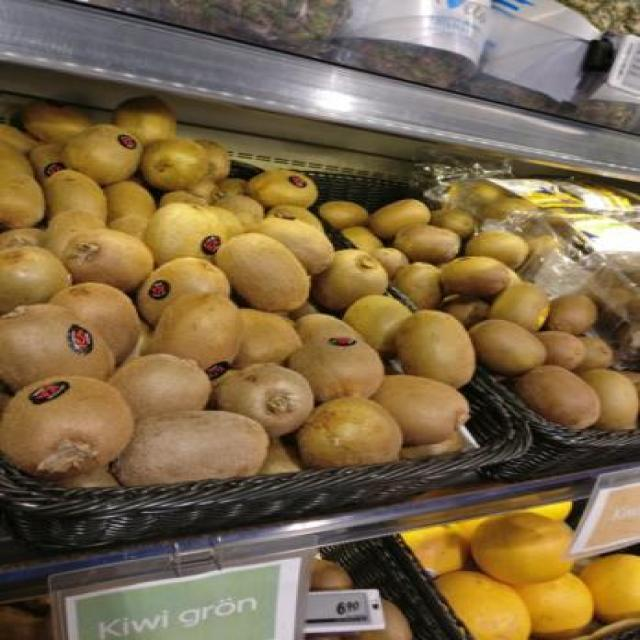kiwi: (113, 410, 270, 485), (0, 305, 113, 391), (147, 294, 238, 377), (215, 362, 313, 436), (215, 235, 310, 311), (50, 282, 140, 362), (298, 398, 400, 467), (108, 354, 212, 419), (372, 375, 468, 444), (288, 336, 383, 402), (137, 258, 230, 324), (397, 310, 475, 388), (62, 231, 153, 292), (515, 366, 600, 429), (143, 202, 227, 264), (62, 124, 143, 184), (0, 246, 72, 313), (253, 218, 335, 274), (313, 249, 388, 310), (468, 319, 545, 376), (233, 309, 302, 368), (343, 296, 413, 352), (580, 370, 637, 431), (143, 139, 208, 191), (43, 169, 107, 219), (488, 282, 550, 331), (115, 96, 177, 144), (43, 211, 105, 257), (23, 101, 90, 142), (442, 256, 508, 297), (250, 170, 318, 208), (393, 224, 458, 263), (368, 199, 430, 239), (0, 175, 45, 229), (468, 230, 530, 268), (393, 262, 440, 309), (105, 181, 157, 222), (545, 295, 597, 333), (295, 314, 363, 343), (538, 331, 587, 369), (402, 430, 463, 460), (215, 195, 263, 229), (258, 438, 302, 474), (442, 296, 488, 328), (267, 205, 323, 231), (28, 142, 65, 181), (57, 465, 118, 488), (318, 201, 368, 229), (575, 336, 613, 372), (196, 140, 230, 179), (430, 209, 475, 238), (0, 140, 33, 177), (370, 248, 410, 278), (208, 206, 245, 237), (0, 124, 38, 154), (342, 226, 383, 252), (108, 212, 144, 239), (2, 228, 45, 249), (162, 190, 208, 207), (188, 178, 218, 202), (290, 301, 320, 319), (218, 178, 247, 196)
